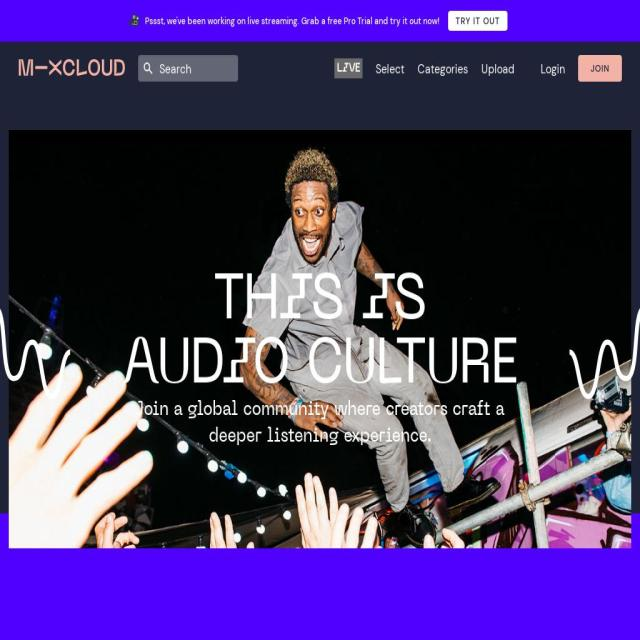button: (18, 56, 138, 81), (455, 11, 517, 31), (577, 55, 622, 82), (448, 11, 508, 31)
field: (138, 55, 238, 82)
heading: (121, 335, 519, 397), (122, 397, 518, 450), (213, 271, 427, 333)
image: (18, 58, 125, 78), (128, 12, 140, 28), (142, 63, 154, 74)
link: (417, 59, 468, 78), (480, 59, 514, 78), (375, 59, 404, 78), (336, 63, 360, 74)
text: (114, 14, 447, 28), (145, 14, 440, 28), (462, 11, 510, 31), (456, 11, 500, 31), (590, 55, 609, 82), (540, 59, 565, 78)
